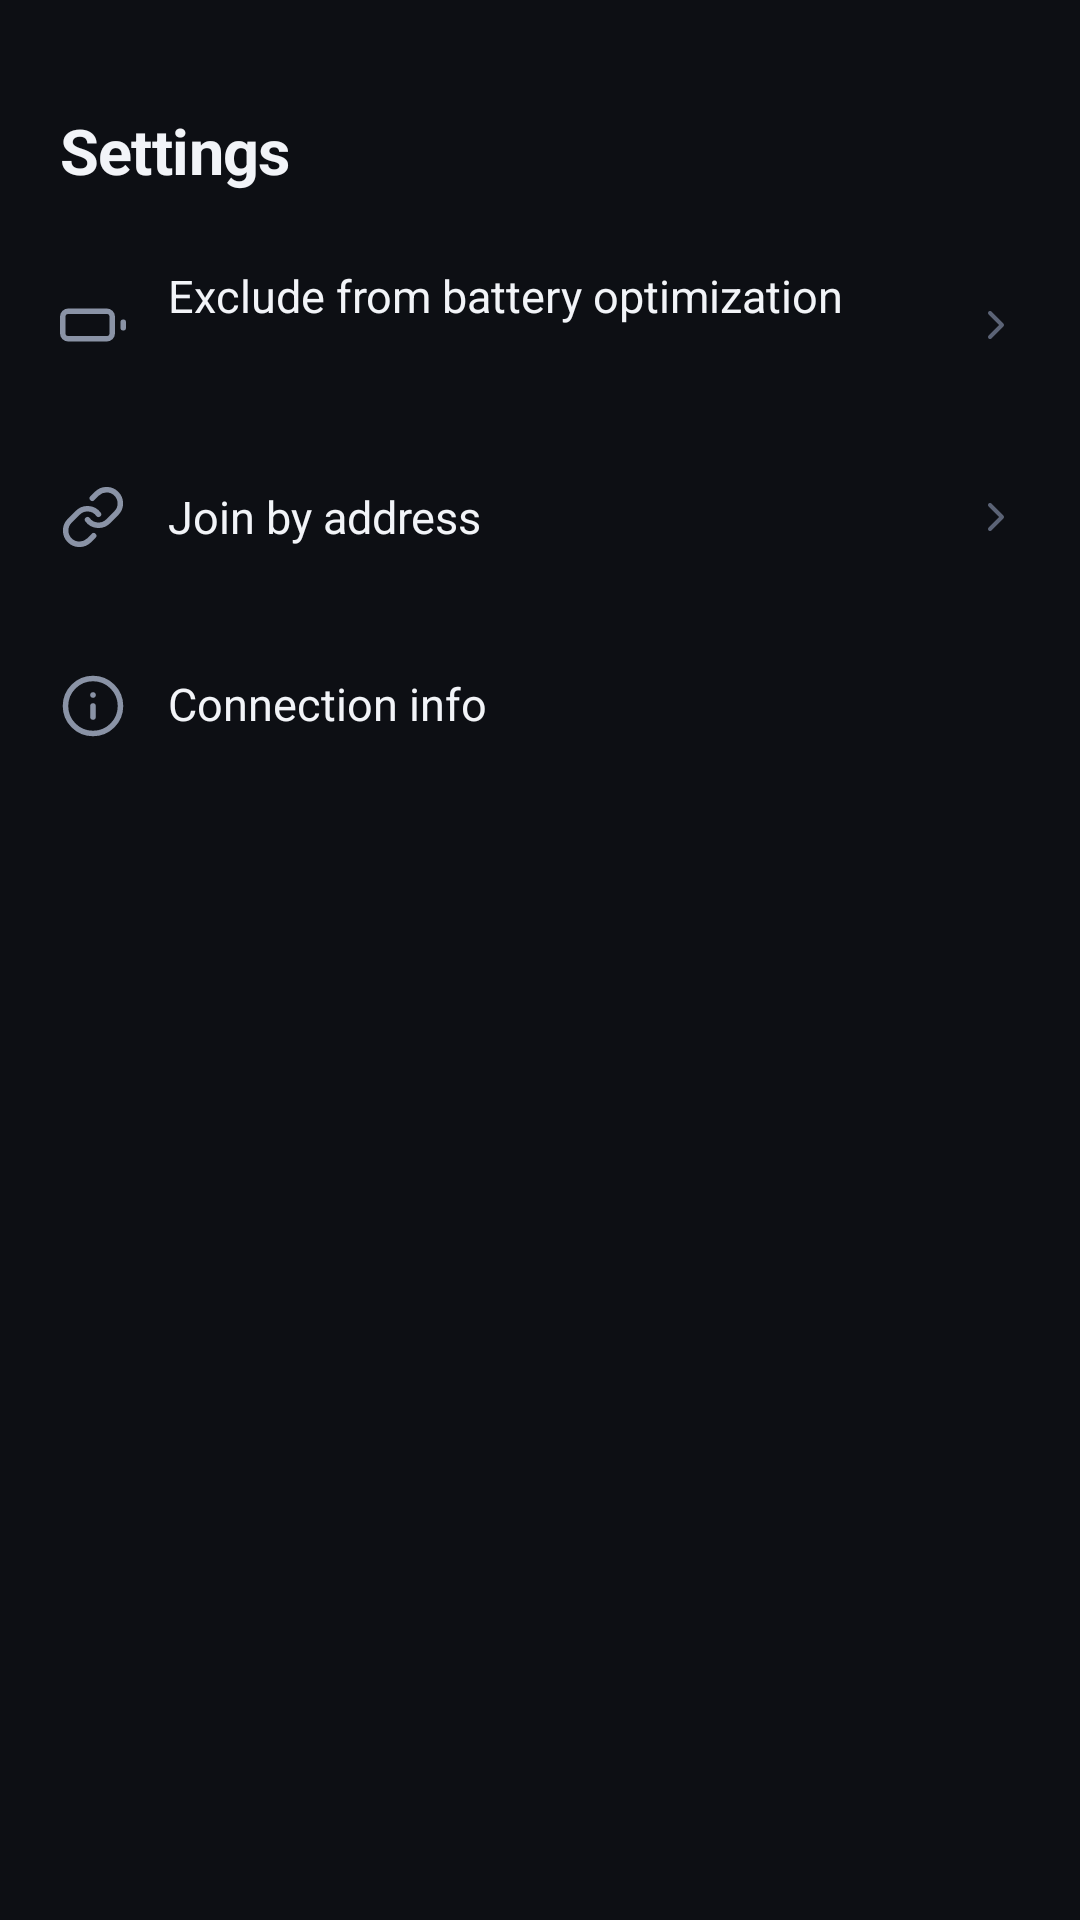

Locate icon controls on the screen. Image size 1080×1920, boxes as region(x1, y1, x2, y2).
chev: region(988, 311, 1004, 339), region(988, 503, 1004, 531)
link: region(63, 487, 123, 547)
